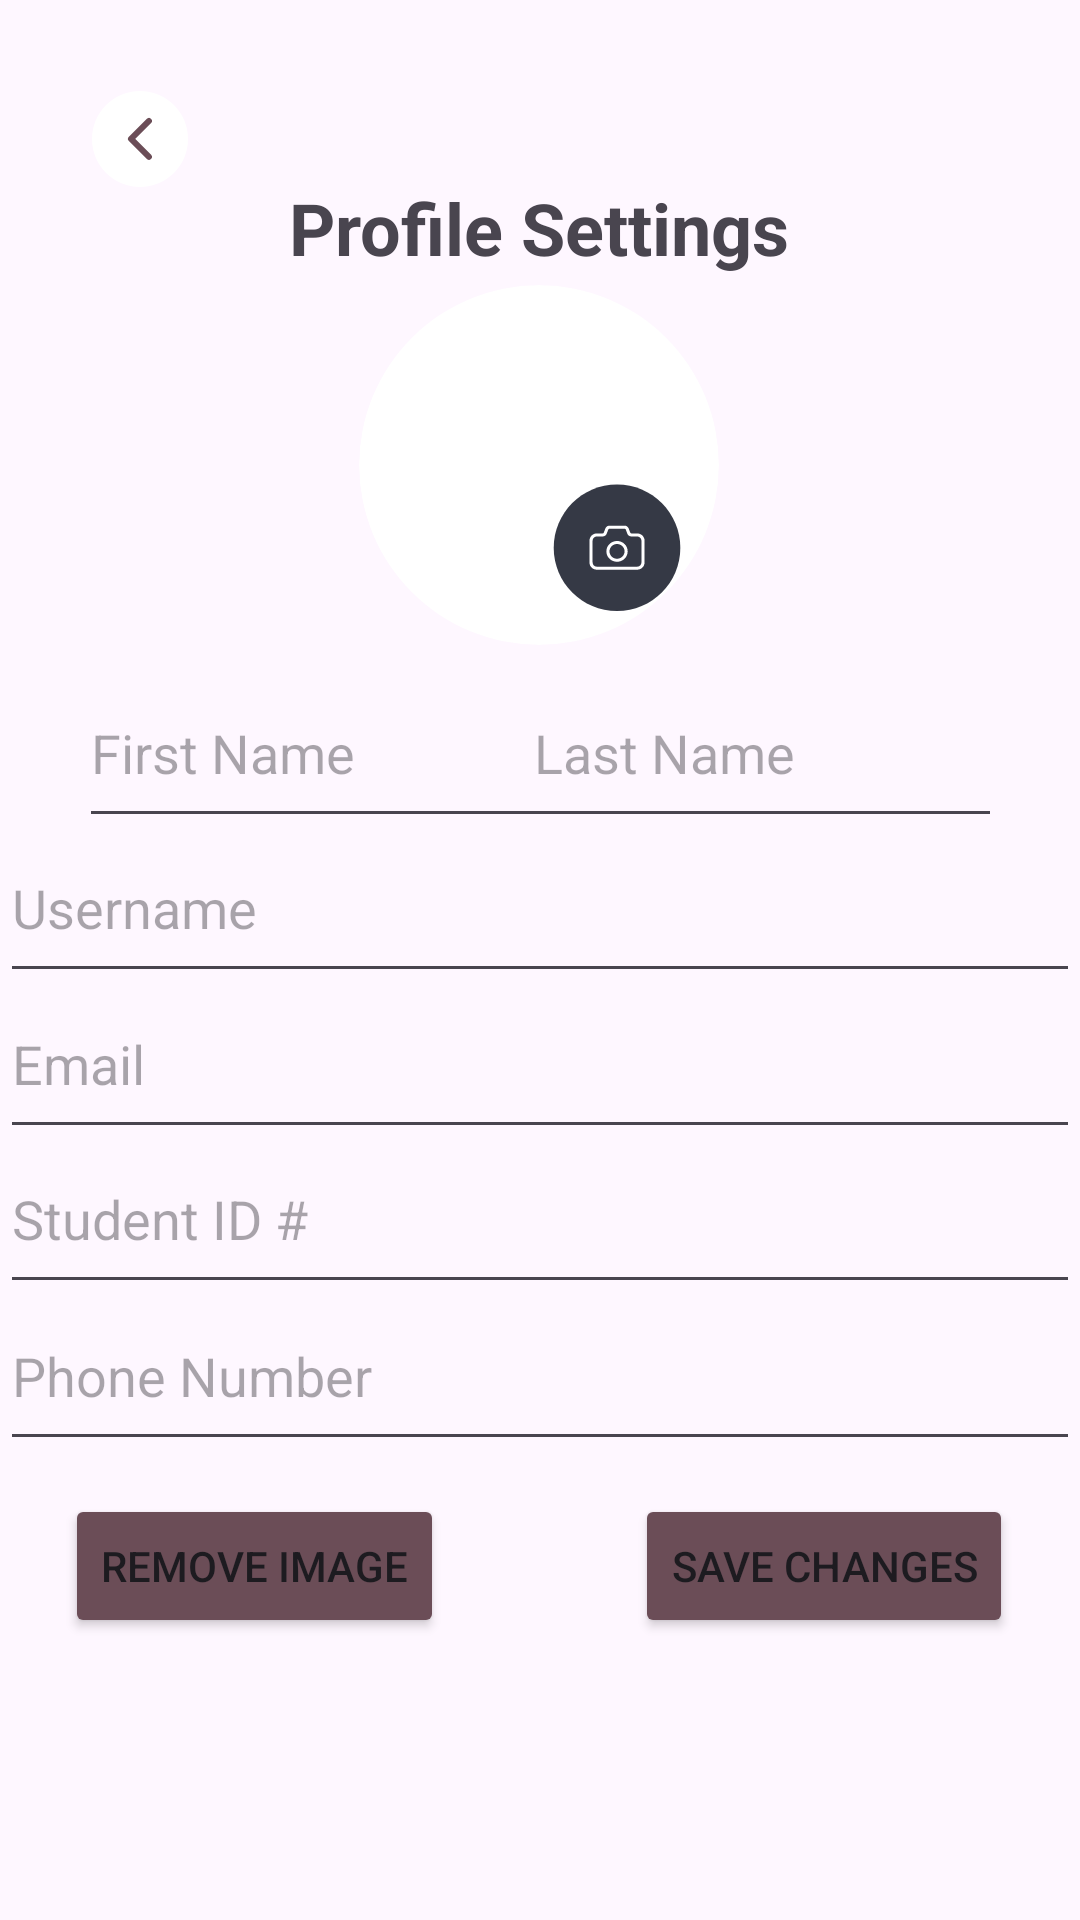

Screen size 1080*1920. Icon name, then its box in pixels as {"left": x1, "top": y1, "right": x2, "bottom": y2}:
Back Button: {"left": 128, "top": 118, "right": 152, "bottom": 160}
Camera Button: {"left": 553, "top": 484, "right": 681, "bottom": 611}
